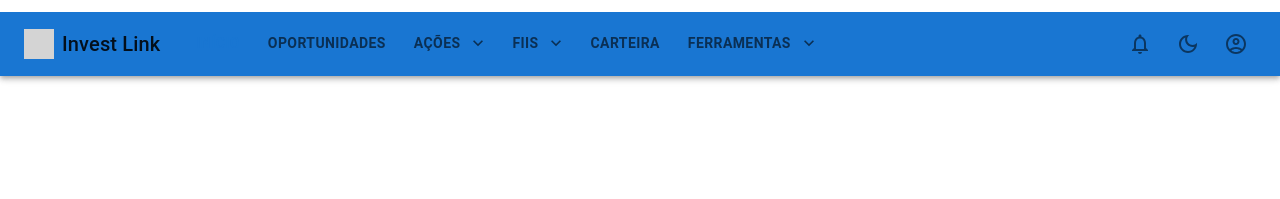
Test: BarraNavegacao › esconde o Admin de quem não é administrador
The image size is (1280, 199).
Step 1. Click the button named "conta" → (1236, 44), box x1=1216 y1=24 x2=1256 y2=64
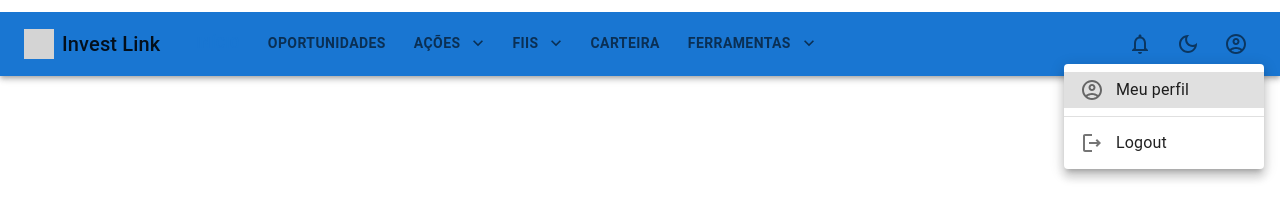
Check: the menu item "Meu perfil" is shown, box x1=1064 y1=72 x2=1264 y2=108
